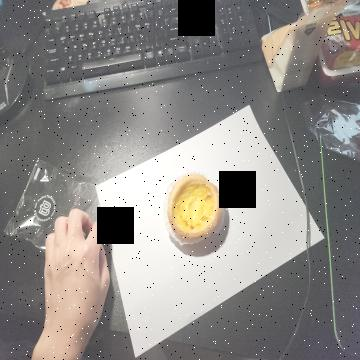EggTart: (167, 172, 223, 243)
